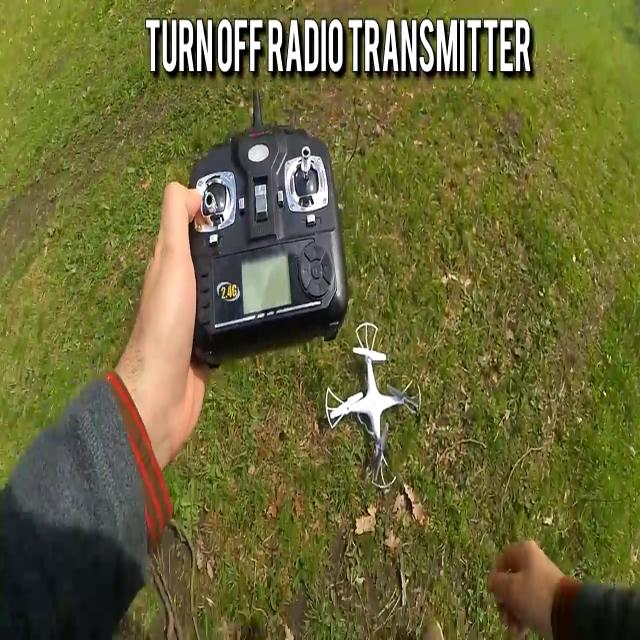drones: (316, 319, 426, 502)
